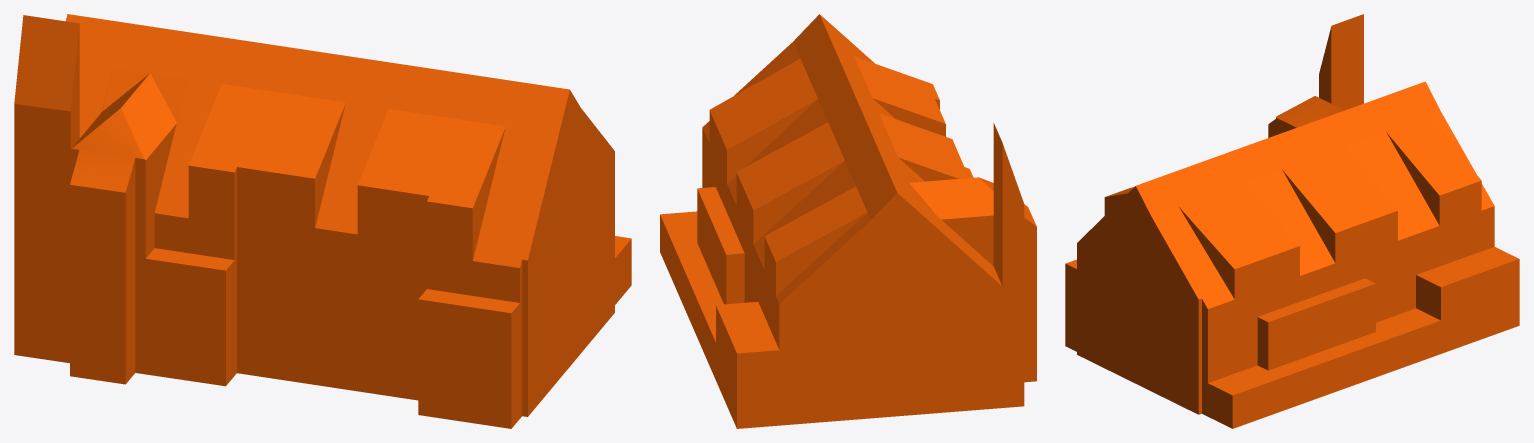
Rendered from DEHB01ALk00017Ub.dae.
3 renders of one model, left to right at view 1: azimuth 30°, elevation 25°; view 2: azimuth 150°, elevation 25°; view 3: azimuth 270°, elevation 25°, orthographic. The views are drawn at different scales.
Bounding box in the file's own units: 26.5 × 27.3 × 15.59.
